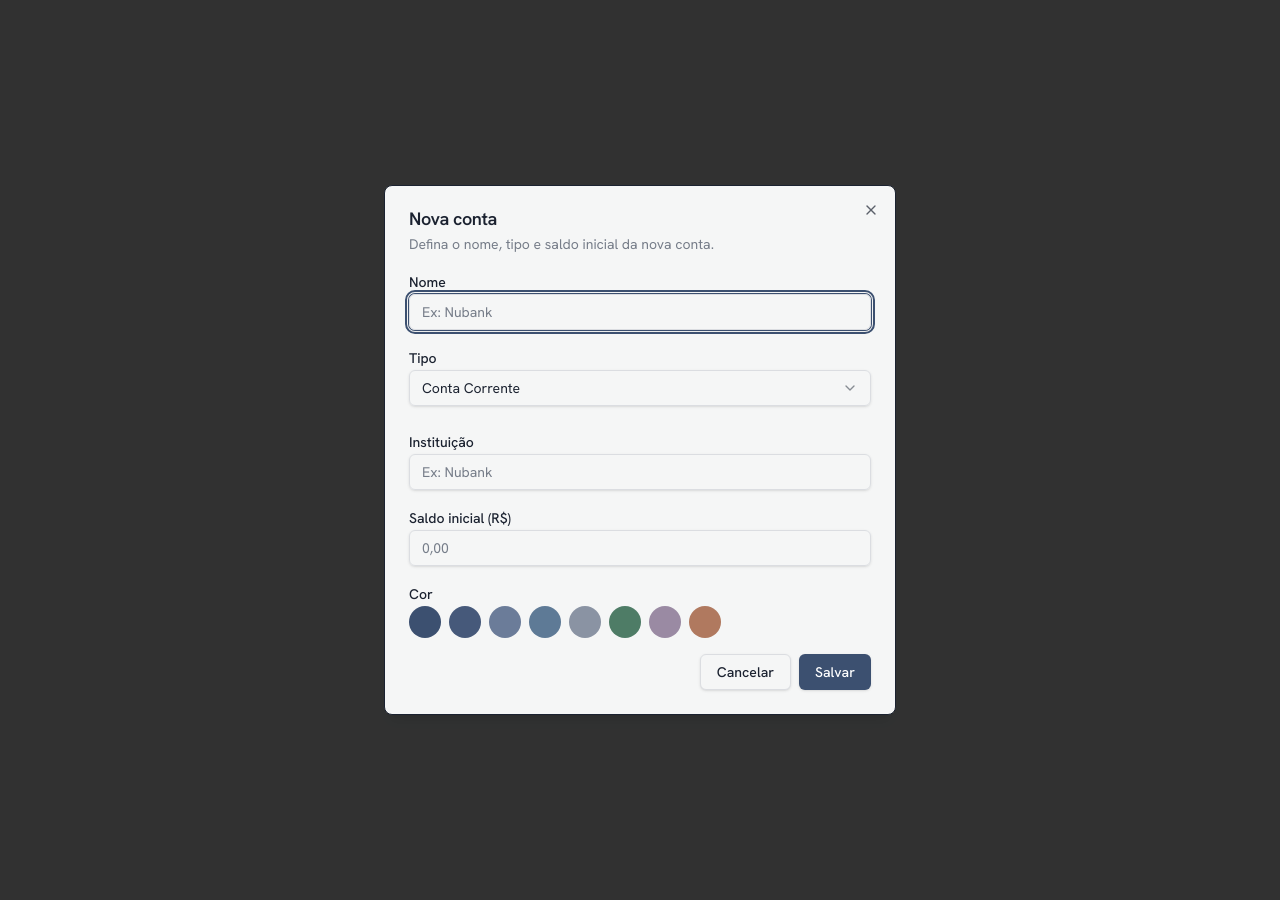
Test: AccountForm › displays a server error when creation fails
The width and height of the screenshot is (1280, 900).
Type "Nubank" into the field labelled "Nome".
click(640, 312); type("Nubank")  # box [409, 294, 871, 330]
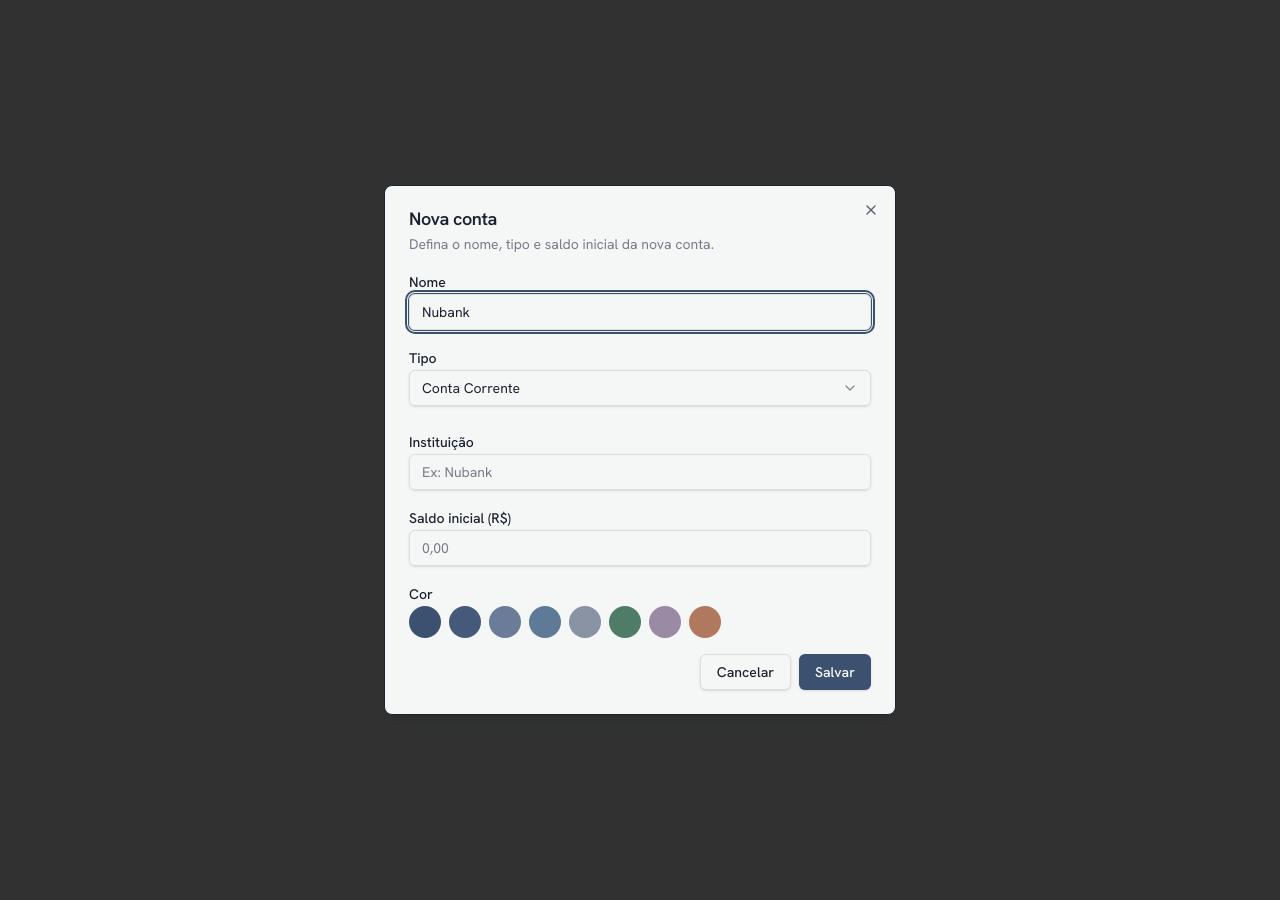
Type "100,00" into the field labelled "Saldo inicial (R$)".
click(640, 548); type("100,00")  # box [409, 530, 871, 566]
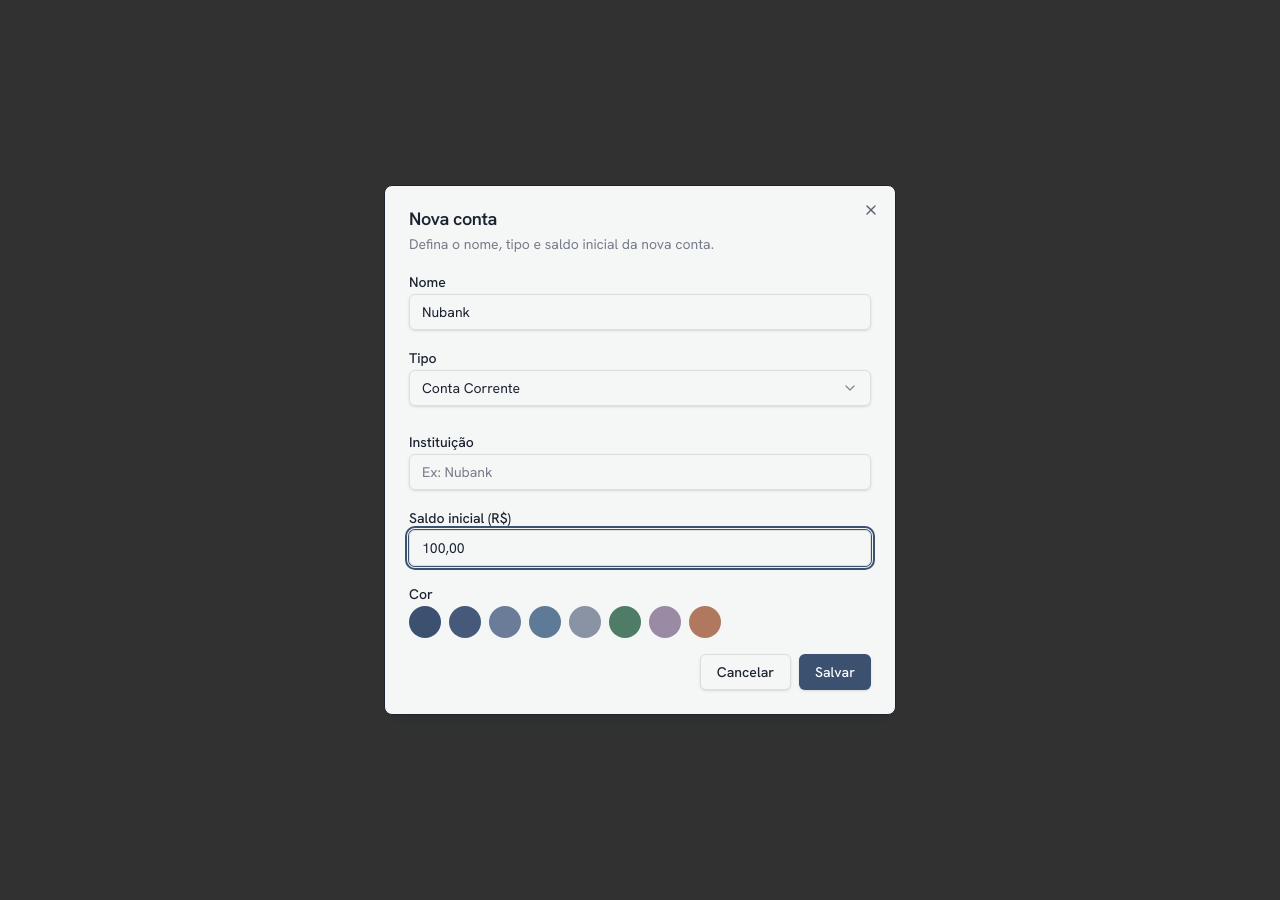
Click the button "Salvar".
click(835, 672)  # box [799, 654, 871, 690]
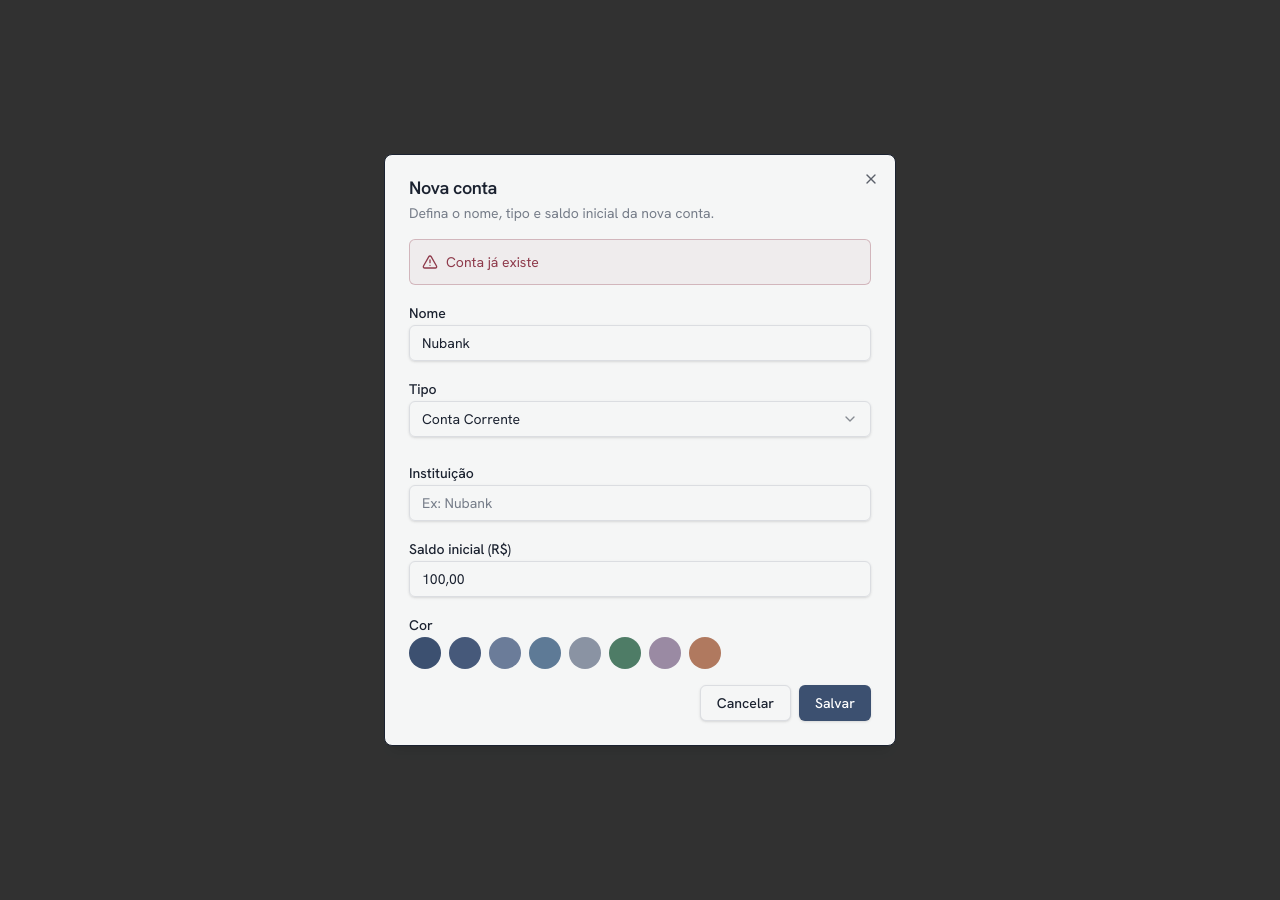
Expected: the text "Conta já existe" is shown, [446, 252, 539, 272]
